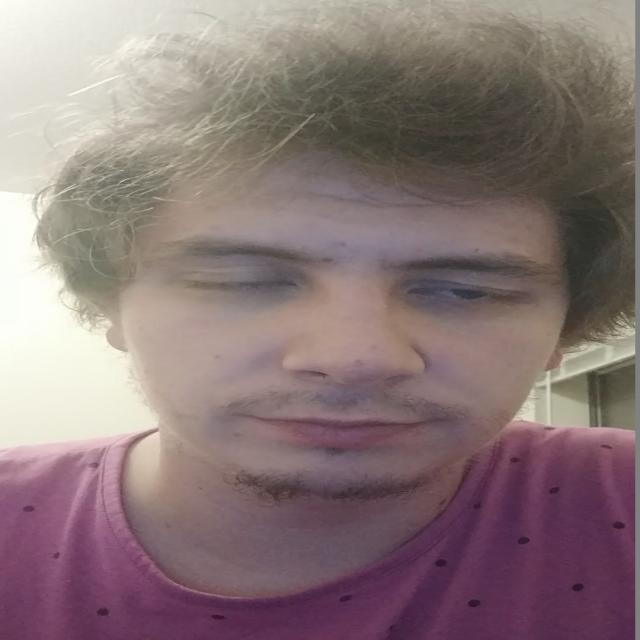Eyeclosed: (404, 276, 532, 314), (178, 265, 298, 301)
